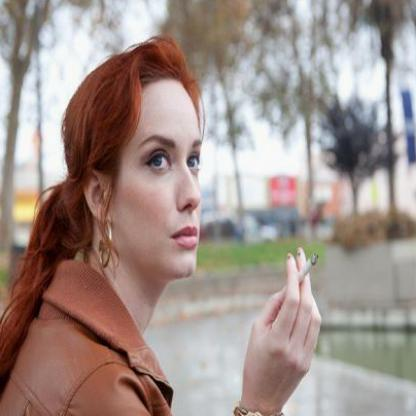cigarette: (290, 250, 322, 288)
person: (0, 36, 209, 415)
